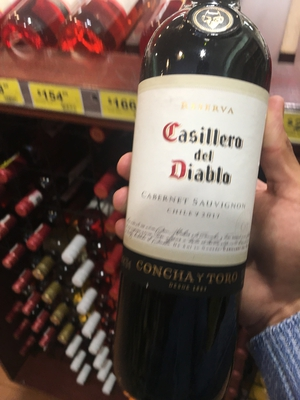casillero del diablo cabernet sauvignon: (122, 9, 271, 400)
